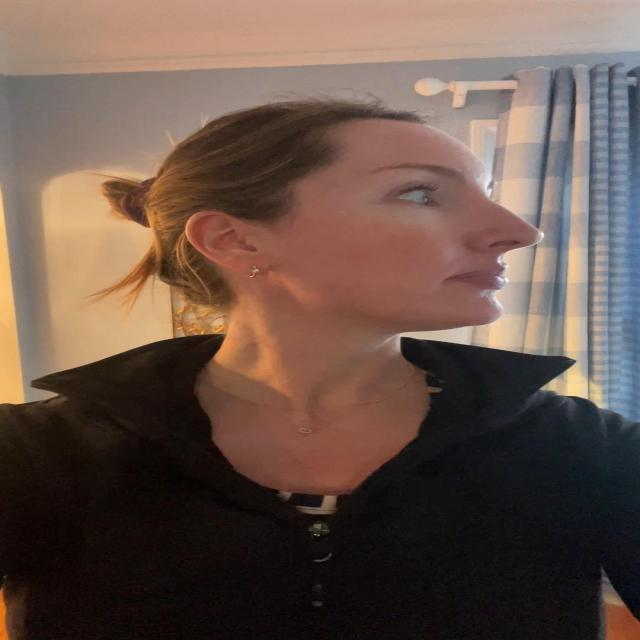no-helmet: (144, 108, 532, 372)
